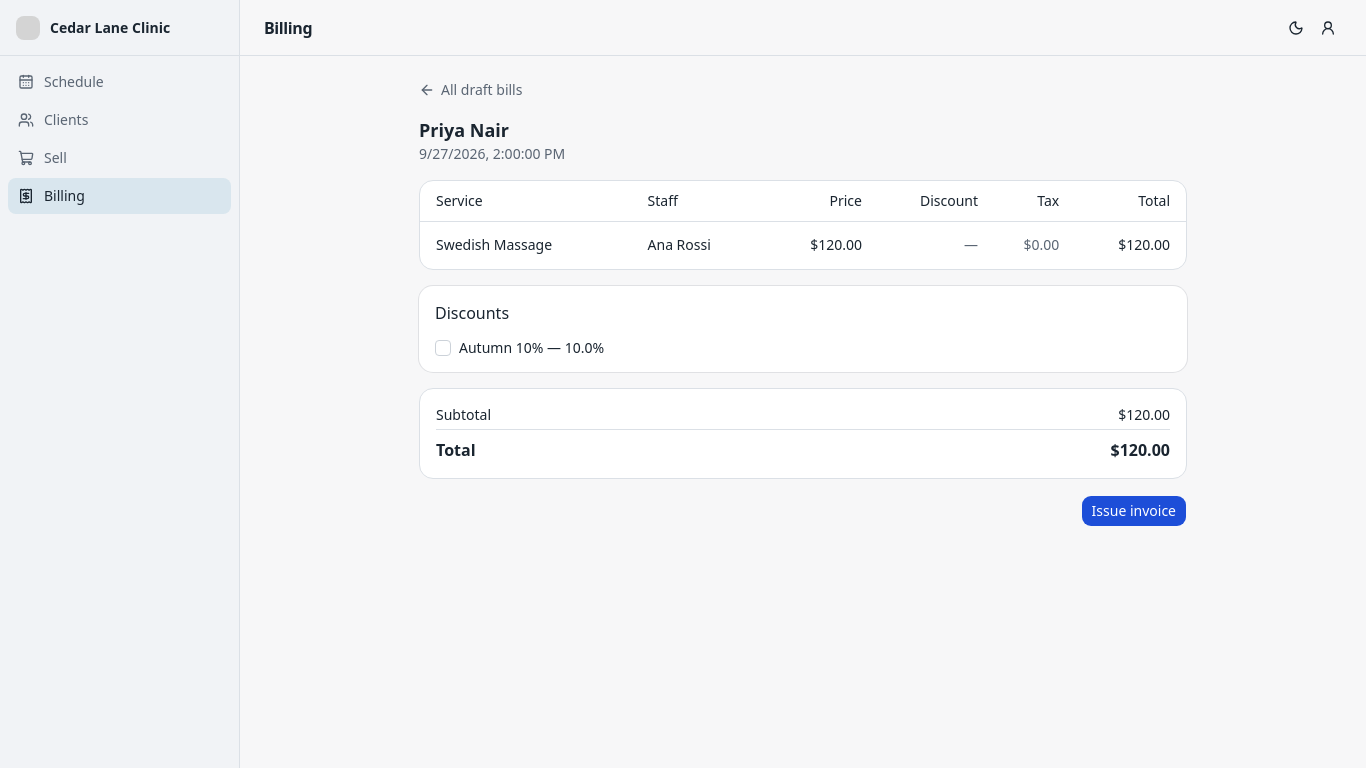
a rejected combination shows the specific reason, not a silent no-op
This screenshot has width=1366, height=768.
Click the checkbox named "Autumn 10%". click: x=443, y=348
box: [435,340,451,356]
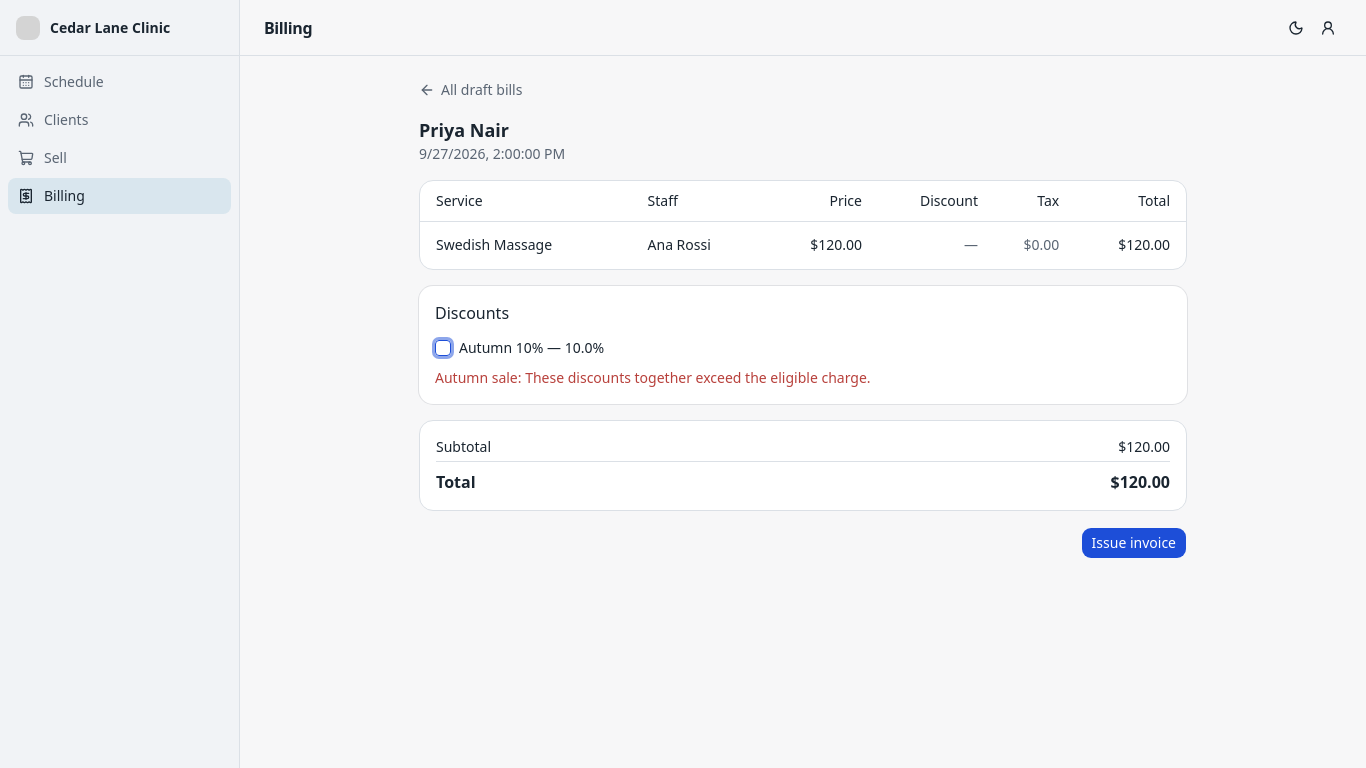
Expected: the message reads "Autumn sale: These discounts together exceed the eligible charge.", [435,368,871,387]
